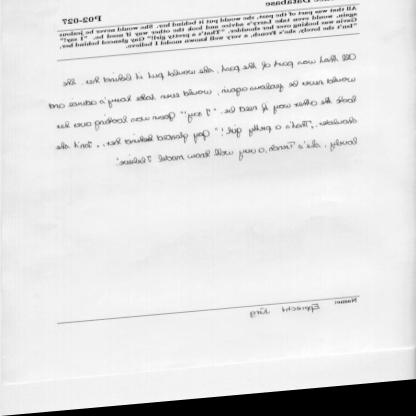Handwritten text: (52, 51, 360, 94), (50, 95, 358, 138), (41, 75, 359, 116), (53, 117, 361, 158), (118, 137, 365, 180)
